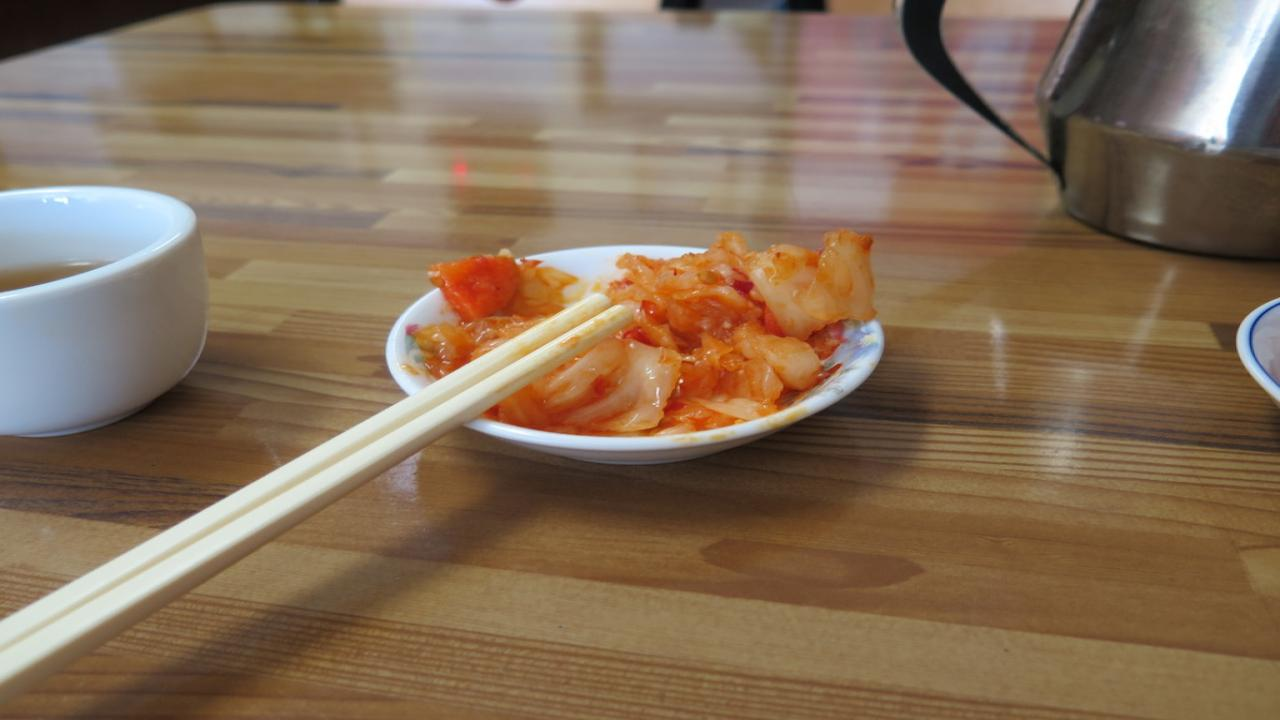chopstick: (0, 294, 636, 693)
